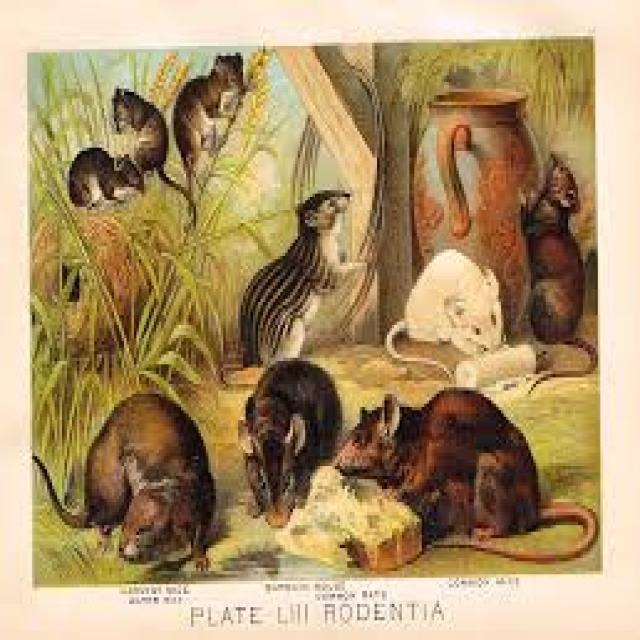rat: (332, 384, 596, 561), (30, 387, 216, 571), (236, 187, 352, 364), (236, 355, 342, 525)
